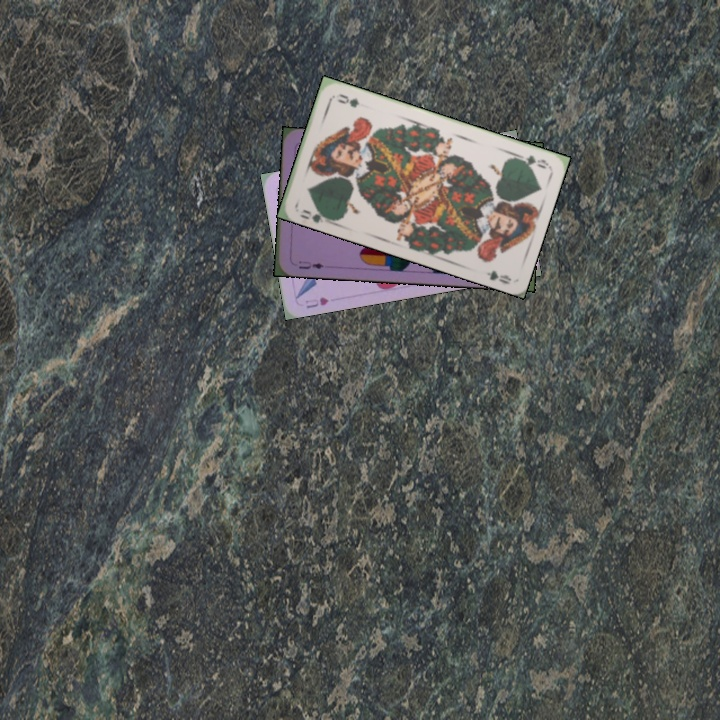EU: (295, 257, 326, 272)
GO: (510, 149, 551, 171), (295, 204, 334, 225)
HU: (301, 293, 331, 311)
